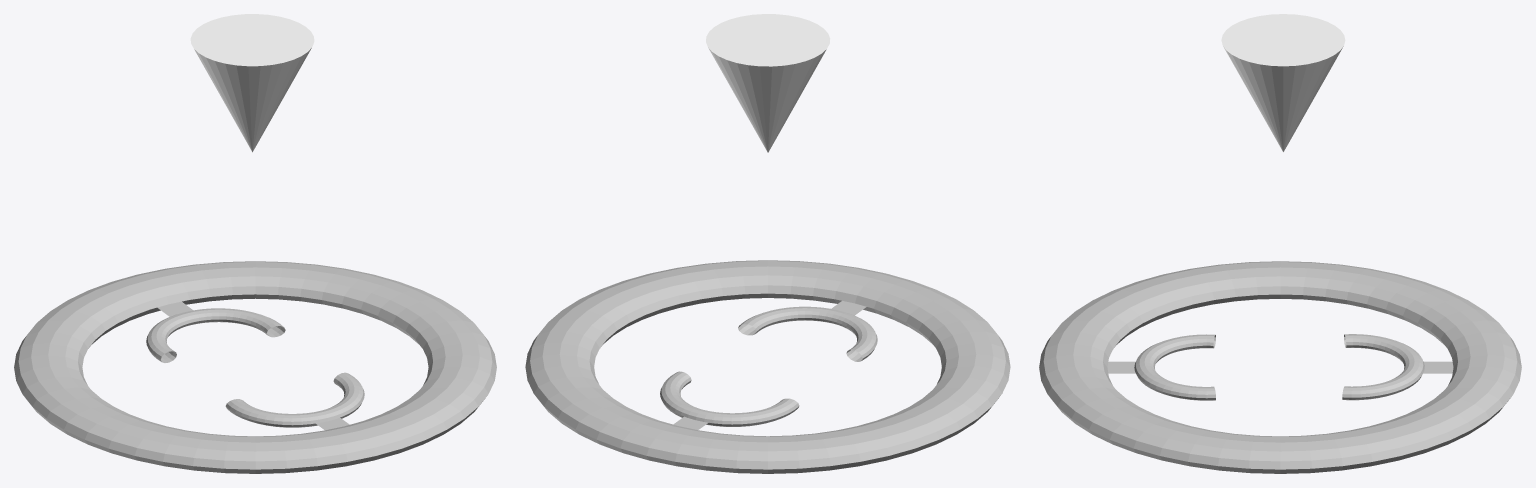
File: target.obj
3 views of the same model, side by side, from view 1: azimuth 30°, elevation 25°; view 2: azimuth 150°, elevation 25°; view 3: azimuth 270°, elevation 25° (orthographic).
Visible parts, largest first — view 1: トーラス.002, 円錐, 平面.001, 平面; view 2: トーラス.002, 円錐, 平面, 平面.001; view 3: トーラス.002, 円錐, 平面.001, 平面.
Part boxes in pixels (box(x1,y1,x2,y2)): トーラス.002: box(14, 261, 496, 473); 円錐: box(190, 14, 314, 152); 平面.001: box(146, 301, 285, 362); 平面: box(225, 372, 364, 430); トーラス.002: box(525, 260, 1010, 473); 円錐: box(706, 14, 830, 152); 平面: box(738, 301, 877, 361); 平面.001: box(660, 371, 799, 429); トーラス.002: box(1039, 261, 1521, 473); 円錐: box(1221, 14, 1345, 151); 平面.001: box(1342, 334, 1453, 400); 平面: box(1107, 334, 1215, 400).
Size of the model in its own units: 4.66 by 3.61 by 4.66.
